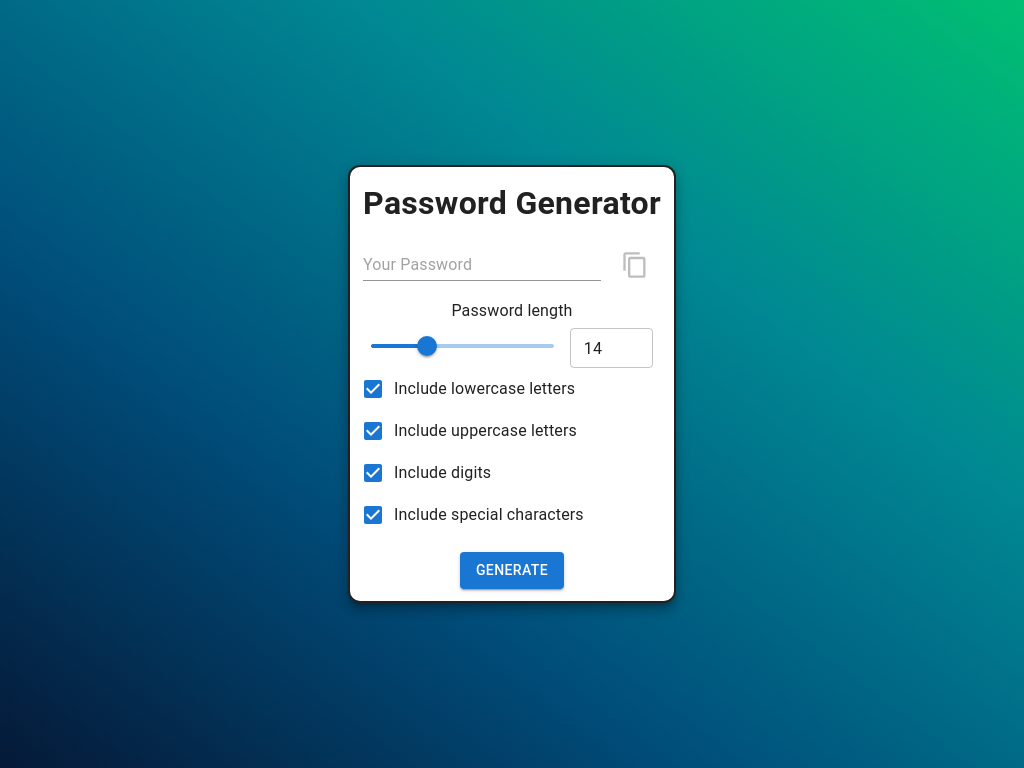
Test: Password generator › disables generate button when all checkboxes are unchecked
Uncheck the checkbox labelled "Include lowercase letters".
click(373, 389)  # box [352,368,394,410]
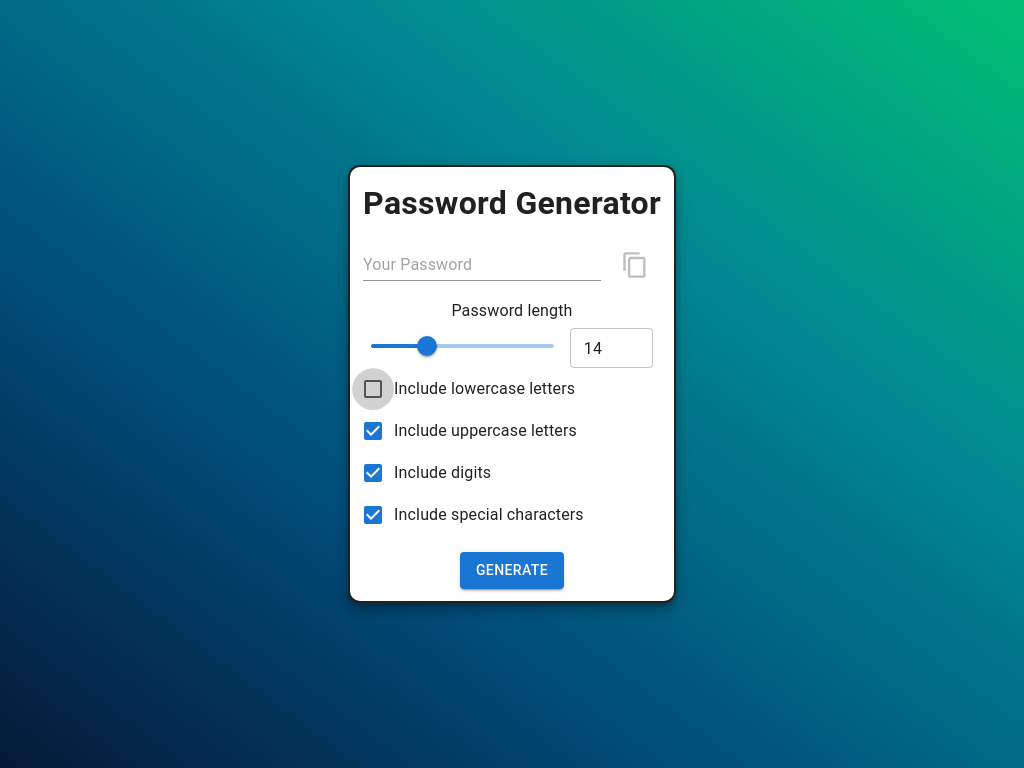
Uncheck the checkbox labelled "Include uppercase letters".
click(373, 431)  # box [352,410,394,452]
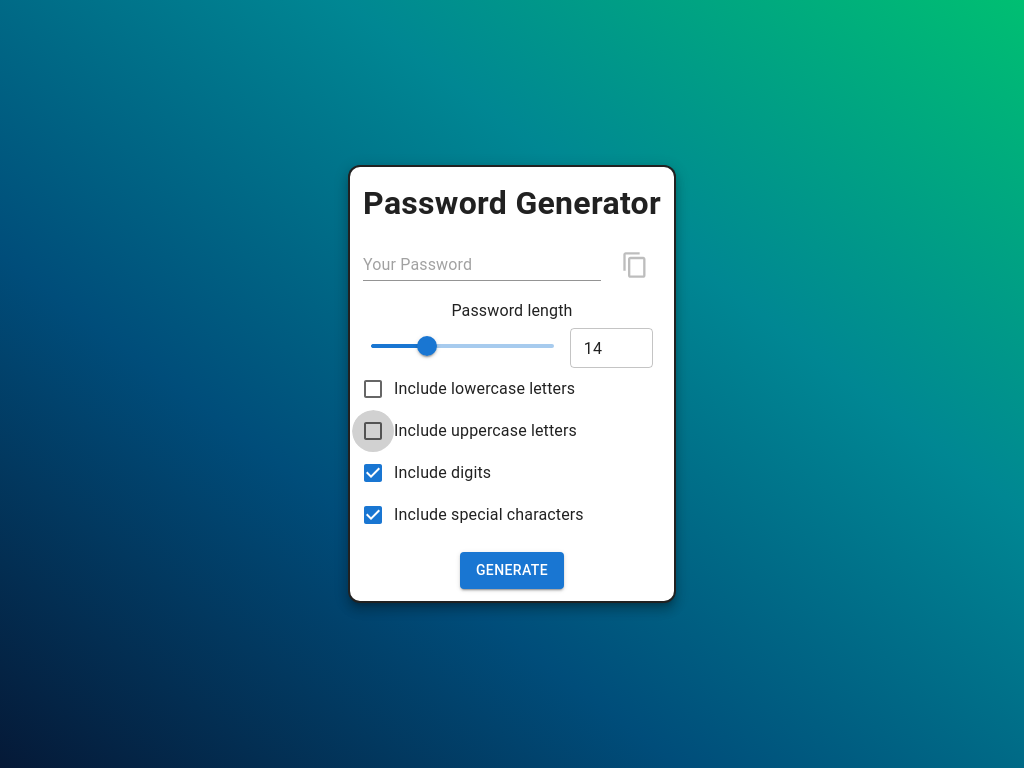
Uncheck the checkbox labelled "Include digits".
click(373, 473)  # box [352,452,394,494]
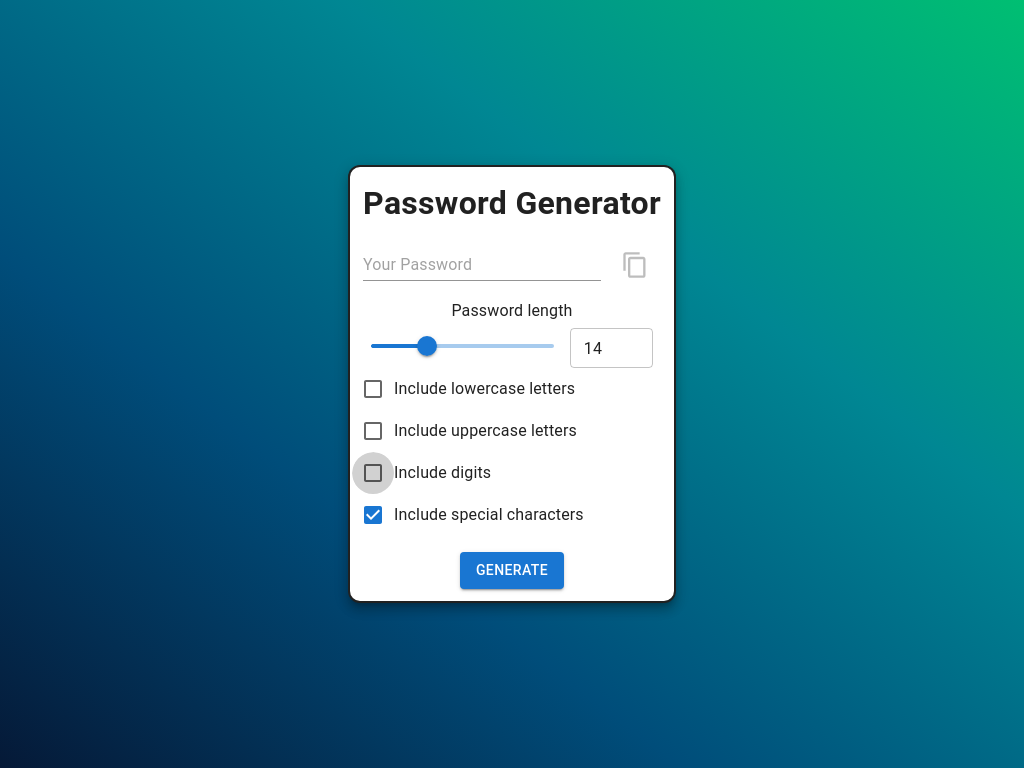
Uncheck the checkbox labelled "Include special characters".
click(373, 515)  # box [352,494,394,536]
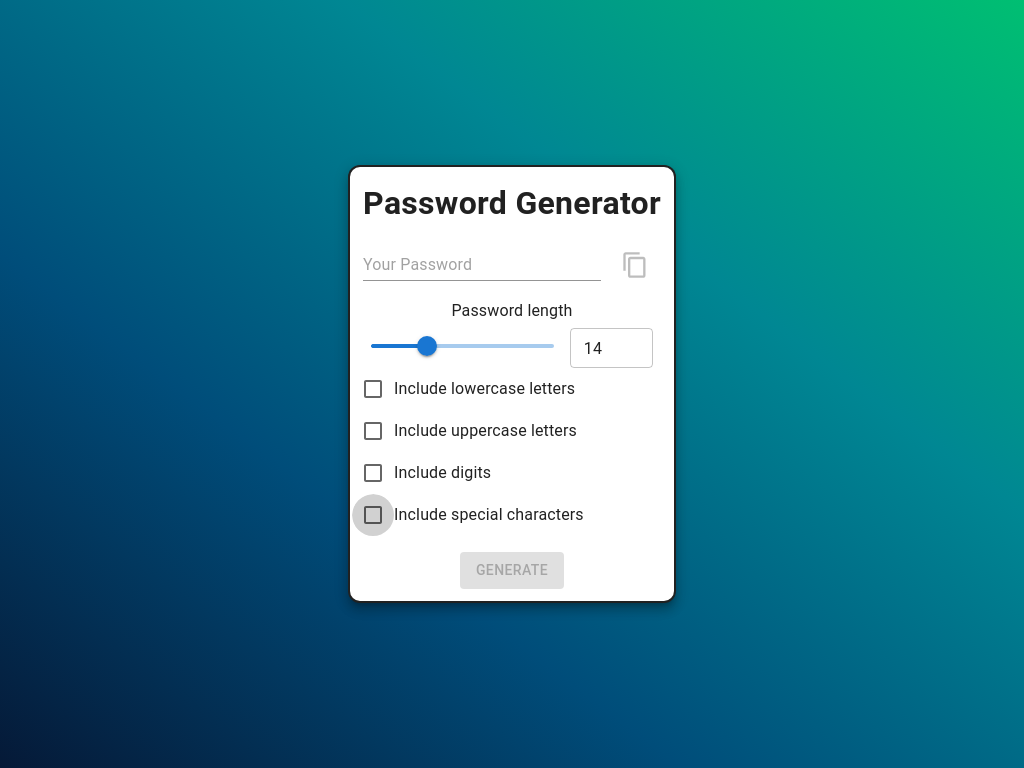
Check: the button with test id "generate-btn" is disabled, box [460,552,564,589]
